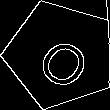O_NE: (27, 22, 94, 88)
